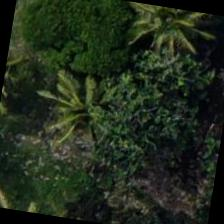Kelapa_Sawit: (40, 63, 143, 166), (117, 1, 214, 69)
